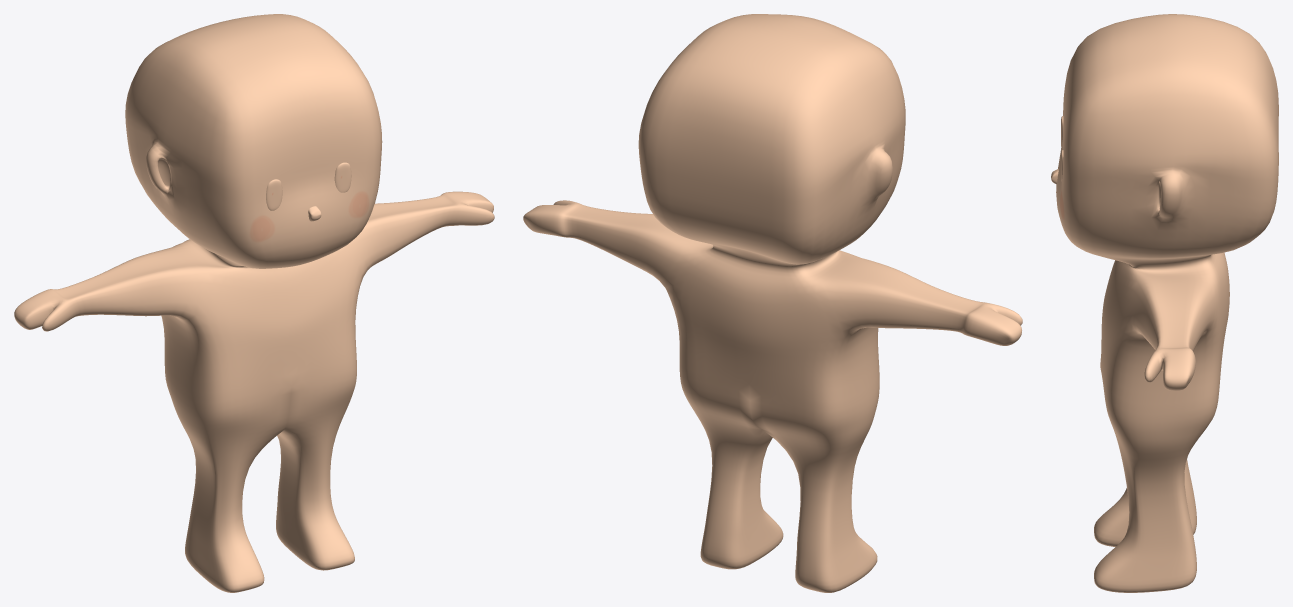
The model's file is chico2.1_basemodel.obj.
3 renders of one model, left to right at view 1: azimuth 30°, elevation 25°; view 2: azimuth 150°, elevation 25°; view 3: azimuth 270°, elevation 25°, orthographic. The views are drawn at different scales.
Parts seen in each view (by area): view 1: Cuerpo; view 2: Cuerpo; view 3: Cuerpo.
Boxes of the visible parts, bbox=[...] form: Cuerpo: bbox=[14, 14, 494, 592]; Cuerpo: bbox=[523, 14, 1022, 592]; Cuerpo: bbox=[1056, 14, 1278, 592].
Bounding box in the file's own units: 2.02 × 2.14 × 0.8355.
Materials: 1 (1 with a texture image).
